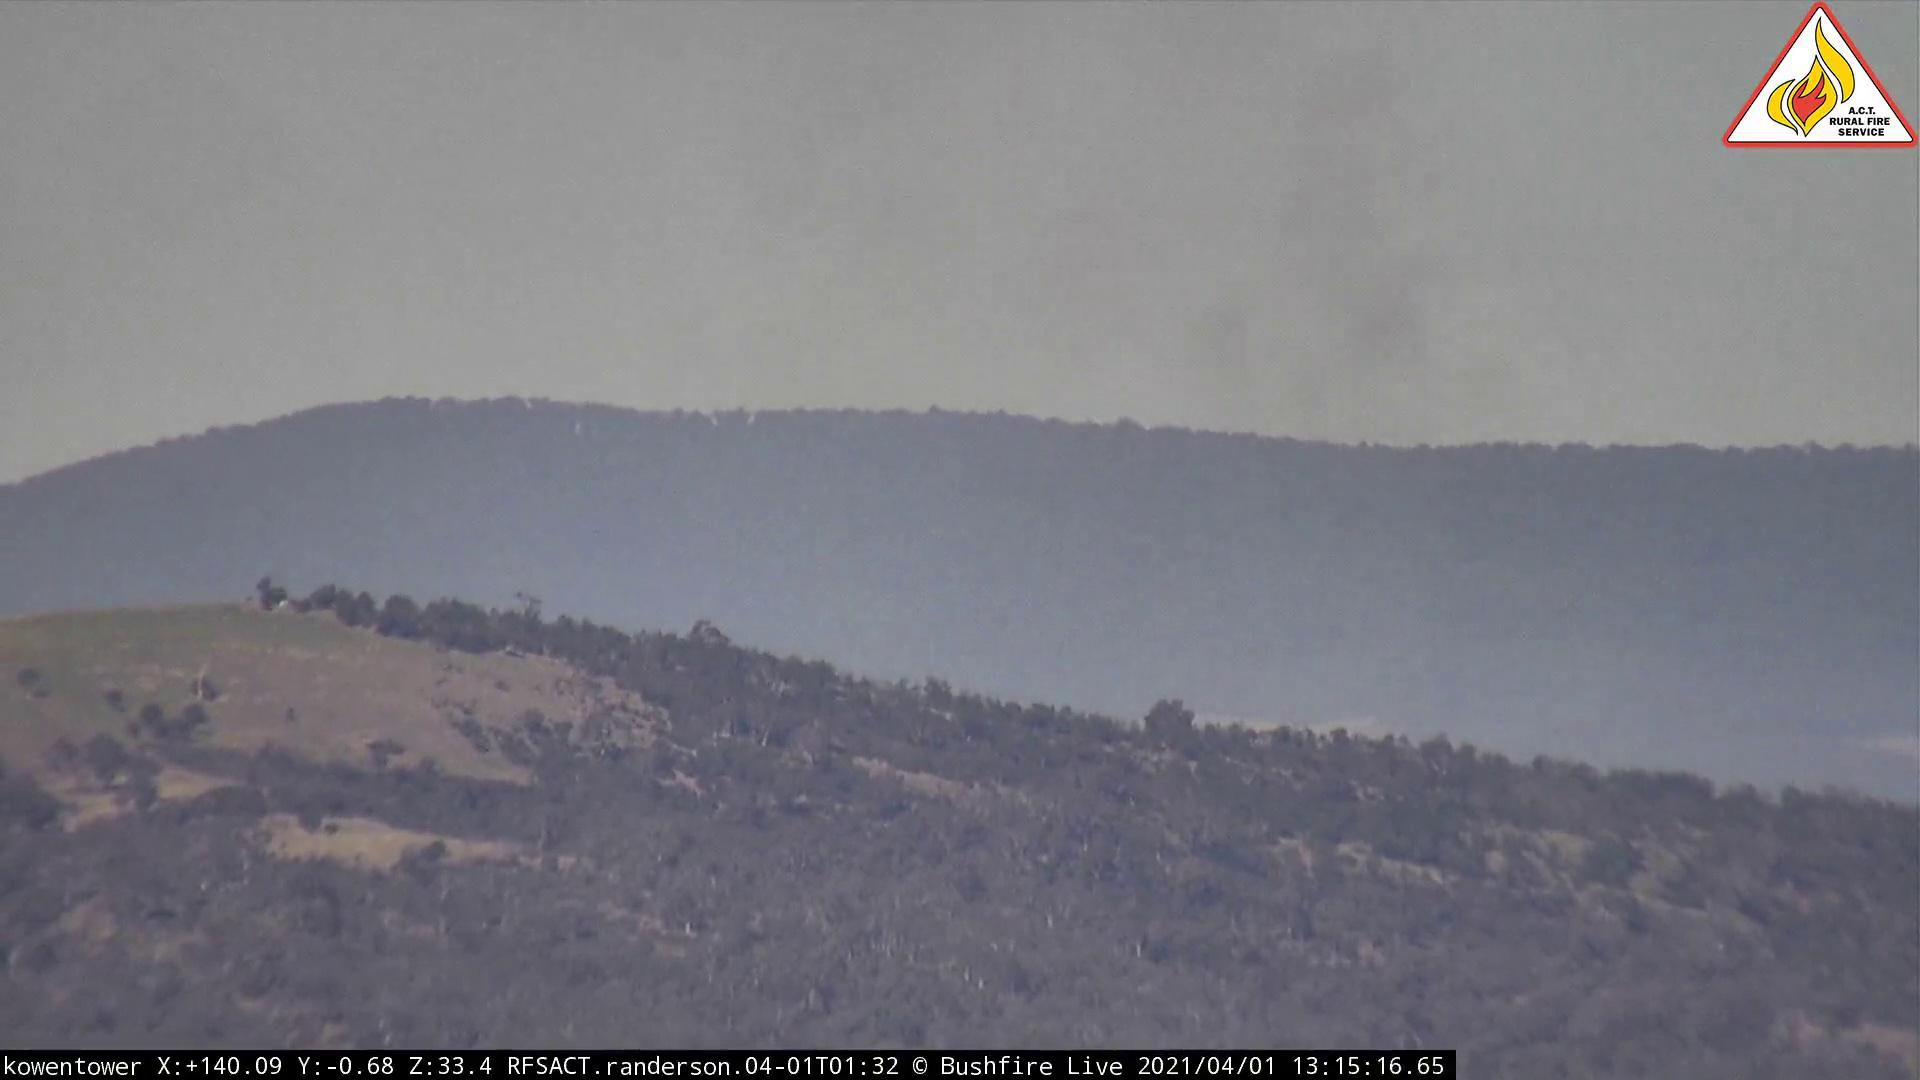Smoke: (770, 3, 1708, 820)
